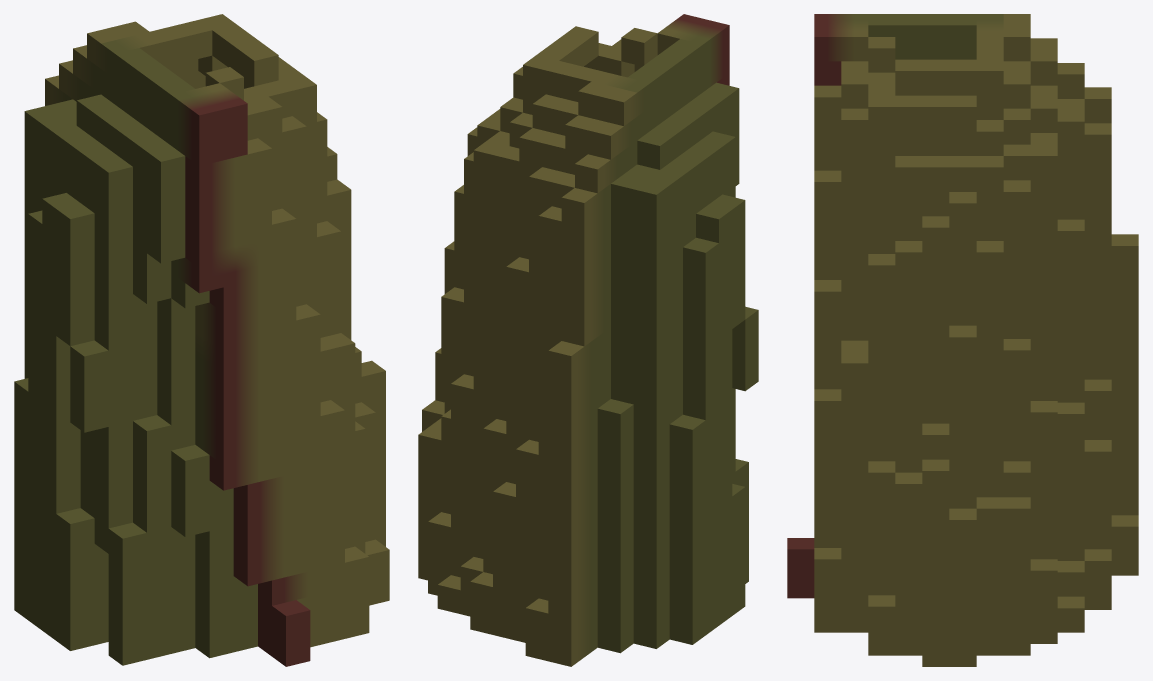
The model's file is NB_TR_F_Skirt_thigh_l.fbx.
The picture shows the model from 3 angles, left to right: view 1: azimuth 30°, elevation 25°; view 2: azimuth 150°, elevation 25°; view 3: azimuth 270°, elevation 25°; orthographic projection. The views are drawn at different scales.
Visible parts, largest first — view 1: Skirt_thigh_l; view 2: Skirt_thigh_l; view 3: Skirt_thigh_l.
Boxes of the visible parts, x1,y1,x2,y2 form: Skirt_thigh_l: (14,14,389,666); Skirt_thigh_l: (418,14,758,666); Skirt_thigh_l: (787,14,1138,666).
Size of the model in its own units: 13 by 22 by 13.
Materials: 1 (1 with a texture image).
